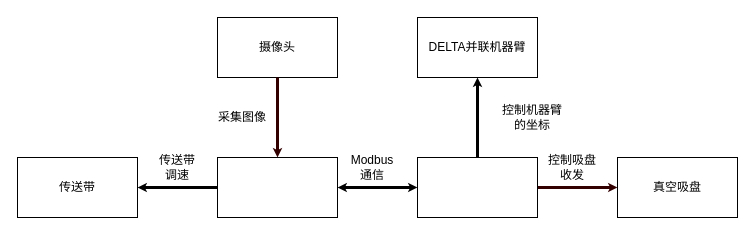
The diagram is 755 pixels wide and 235 high, and some of its shapes have lost their labels. The shapes that lost their labels are listed below. From the top down, each one's centre as x and y in pixels, then its label:
[277,187]: 树莓派
[477,187]: 电控柜
